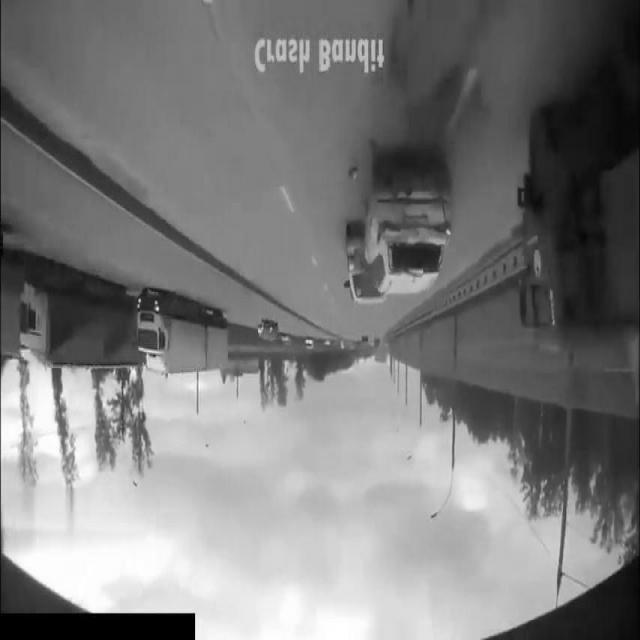severe: (340, 150, 456, 310)
